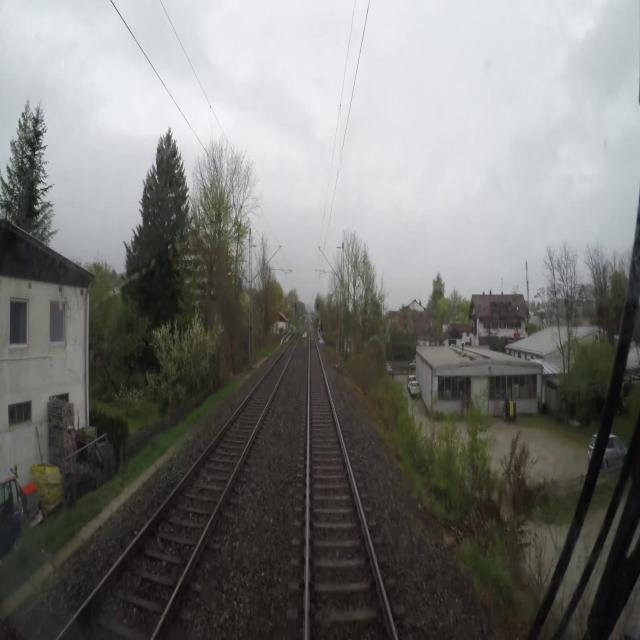rail-track: (61, 334, 299, 639), (309, 329, 393, 639)
